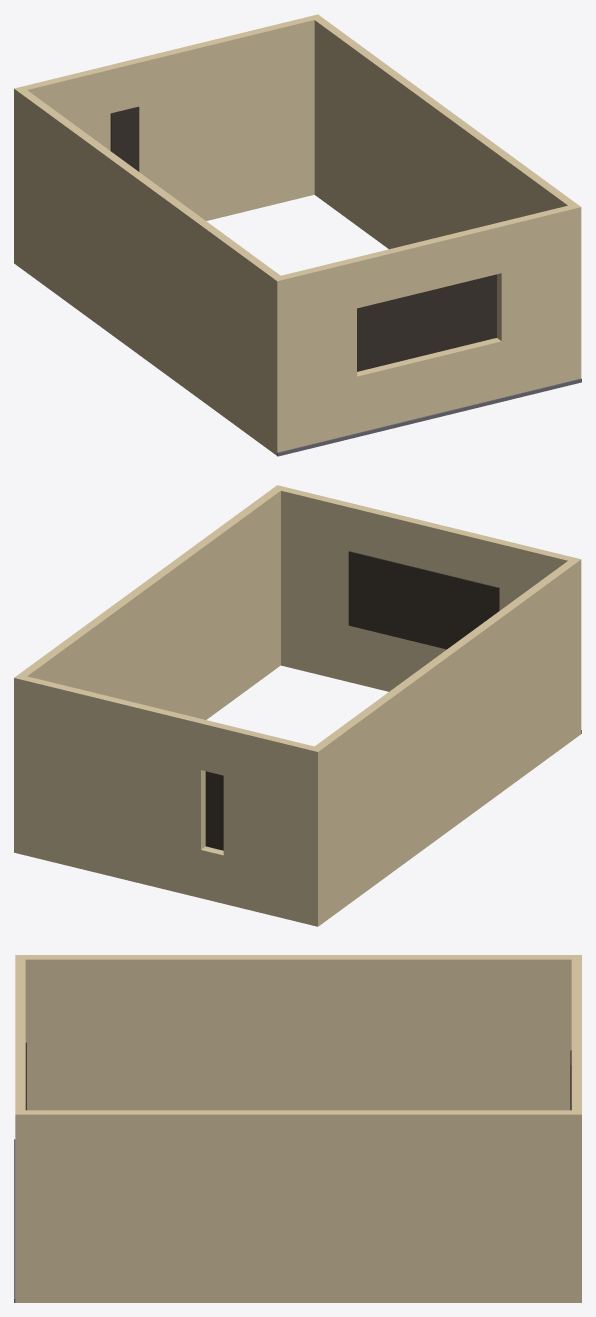
The model's file is SM_Floor_NarrowUpperWindow_Yellow_546_Back_01.gltf.
3 views of the same model, one above another, from view 1: azimuth 30°, elevation 25°; view 2: azimuth 150°, elevation 25°; view 3: azimuth 270°, elevation 25° (orthographic). The views are drawn at different scales.
Parts seen in each view (by area): view 1: SM_Floor_NarrowUpperWindow_Yellow_546_Back_01; view 2: SM_Floor_NarrowUpperWindow_Yellow_546_Back_01; view 3: SM_Floor_NarrowUpperWindow_Yellow_546_Back_01.
Boxes of the visible parts, <box> form: SM_Floor_NarrowUpperWindow_Yellow_546_Back_01: <box>14,14,581,456</box>; SM_Floor_NarrowUpperWindow_Yellow_546_Back_01: <box>14,485,581,926</box>; SM_Floor_NarrowUpperWindow_Yellow_546_Back_01: <box>14,955,581,1302</box>.
Size of the model in its own units: 5.46 by 3 by 8.21.
1 material, 1 textured.
